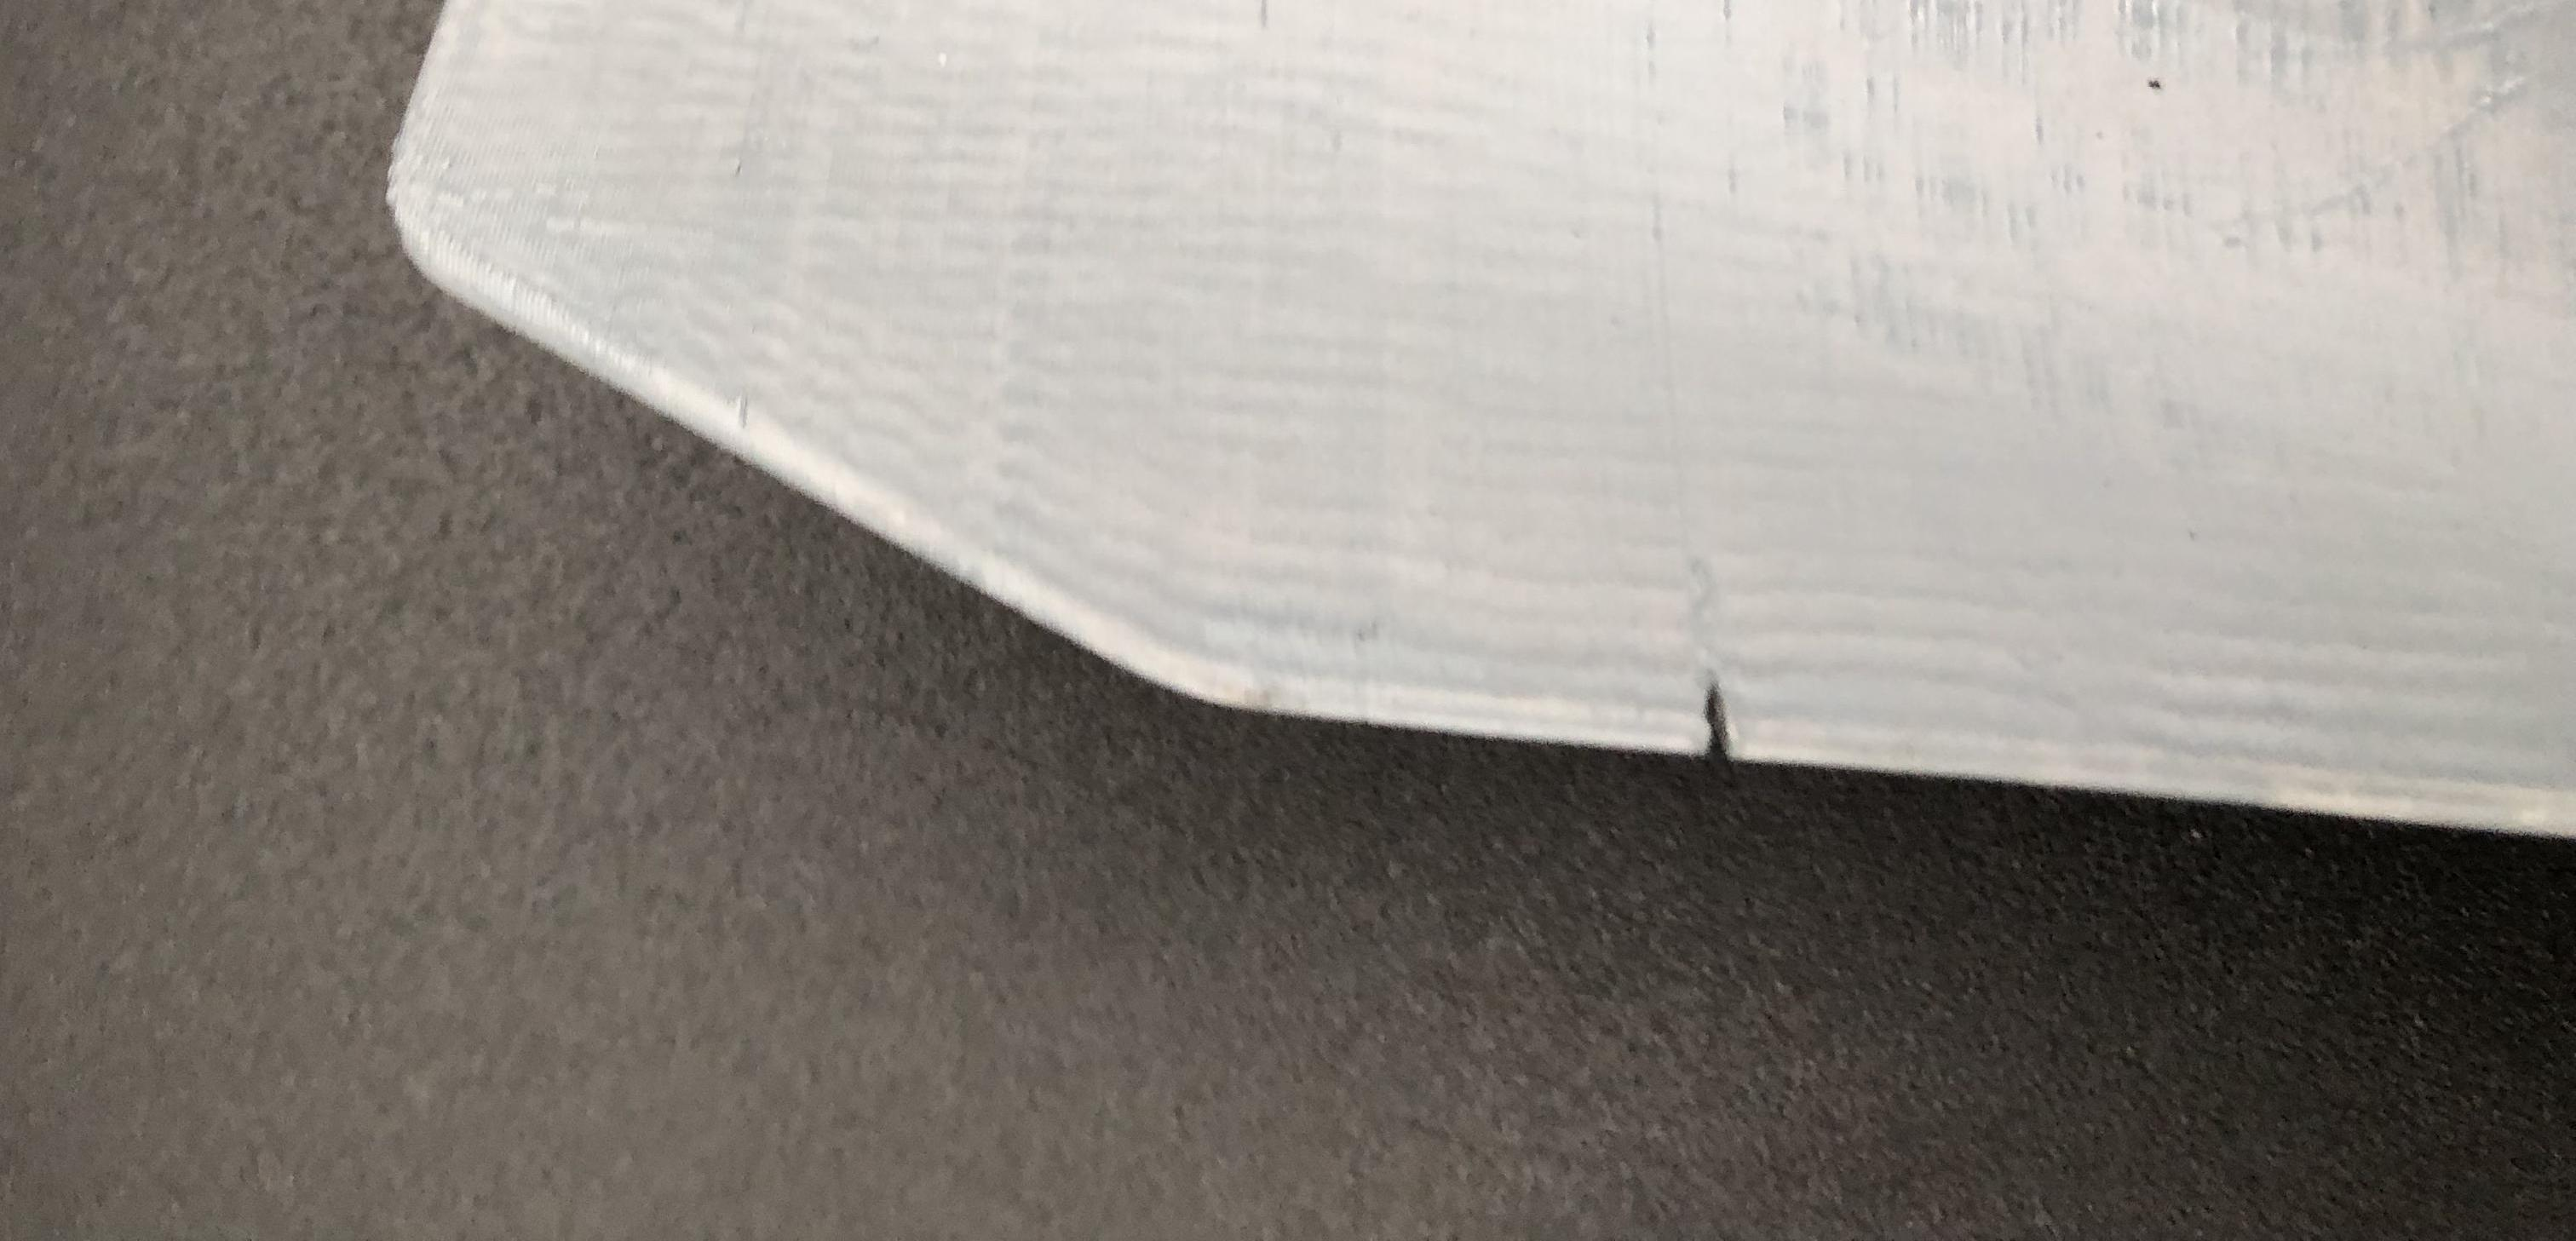groove: (1690, 680, 1776, 759)
